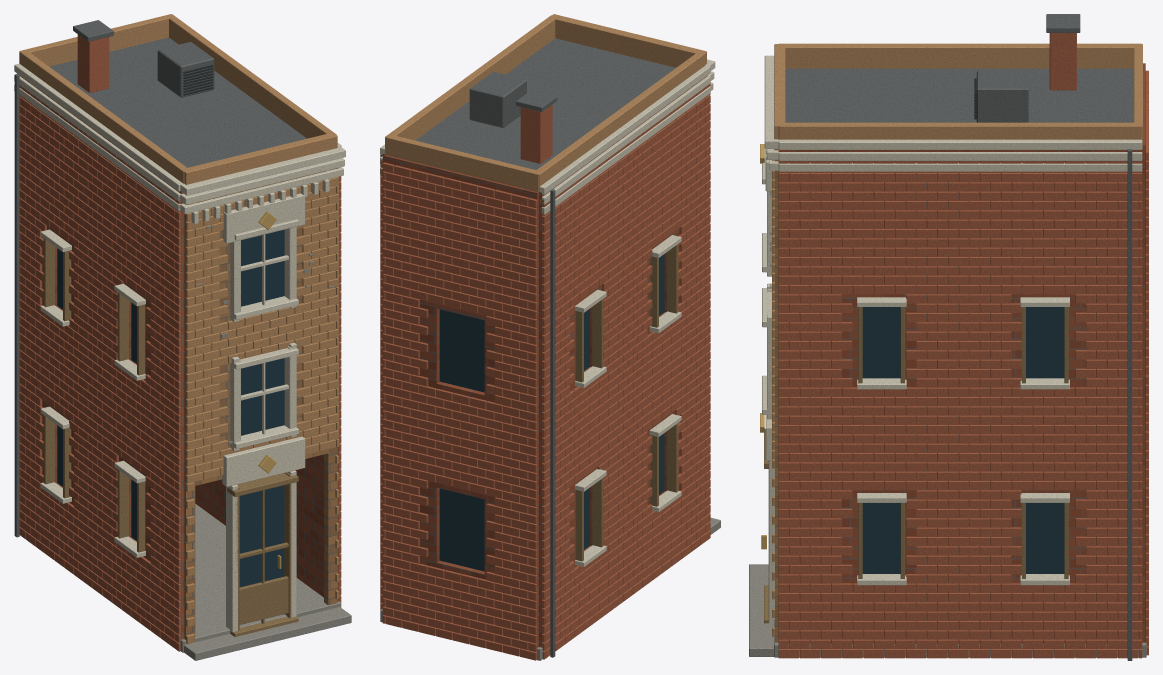
The model's file is CLSTGA18_lod0.glb.
3 views of the same model, side by side, from view 1: azimuth 30°, elevation 25°; view 2: azimuth 150°, elevation 25°; view 3: azimuth 270°, elevation 25° (orthographic). The views are drawn at different scales.
Visible parts, largest first — view 1: CLSTGA18_LOD0; view 2: CLSTGA18_LOD0; view 3: CLSTGA18_LOD0.
Boxes of the visible parts, <box> form: CLSTGA18_LOD0: <box>14,14,351,660</box>; CLSTGA18_LOD0: <box>380,14,720,660</box>; CLSTGA18_LOD0: <box>749,14,1148,660</box>.
Bounding box in the file's own units: 3.71 × 10.45 × 6.6.
Materials: 16 (13 with a texture image).
